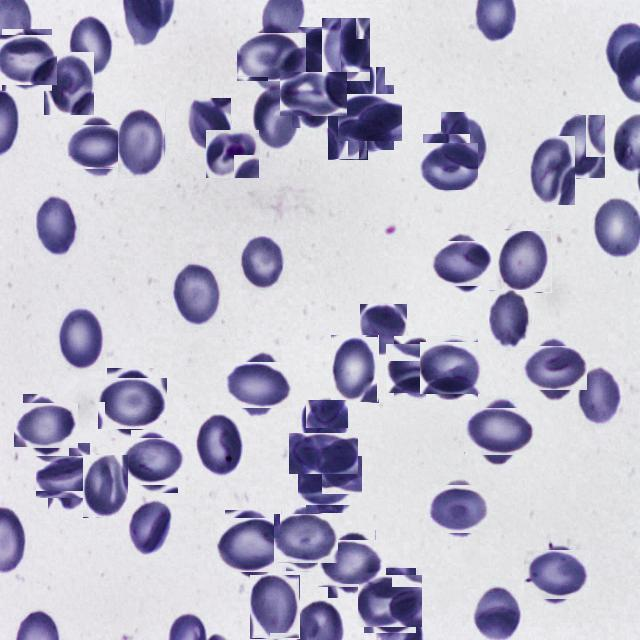red blood cell: (221, 514, 283, 576), (102, 373, 162, 433), (496, 229, 552, 293), (469, 402, 529, 461), (118, 107, 166, 180), (361, 571, 419, 630), (323, 535, 381, 593), (230, 356, 288, 414), (390, 340, 448, 398), (528, 546, 586, 604), (423, 339, 481, 397), (243, 28, 301, 86), (338, 66, 386, 136), (302, 452, 359, 509), (278, 510, 334, 568), (172, 261, 221, 327), (530, 136, 576, 206), (250, 575, 300, 639), (331, 335, 378, 403), (57, 305, 105, 371), (44, 52, 94, 115), (557, 115, 606, 179), (196, 414, 245, 478), (431, 481, 487, 537), (418, 138, 474, 194), (342, 90, 398, 146), (322, 18, 371, 82), (286, 66, 342, 122), (441, 111, 489, 176), (18, 398, 73, 454), (297, 28, 352, 83), (0, 33, 55, 88), (527, 341, 582, 396), (127, 434, 182, 489), (296, 426, 350, 482), (42, 449, 96, 504), (36, 194, 80, 260), (83, 455, 129, 518), (436, 237, 490, 290), (67, 16, 114, 76), (72, 120, 125, 173), (254, 86, 298, 148), (577, 368, 622, 427), (206, 130, 260, 179), (489, 290, 532, 351), (328, 95, 368, 160), (186, 98, 231, 153), (360, 304, 407, 355), (474, 586, 520, 638), (128, 502, 172, 556), (301, 400, 350, 448), (241, 236, 283, 289)
